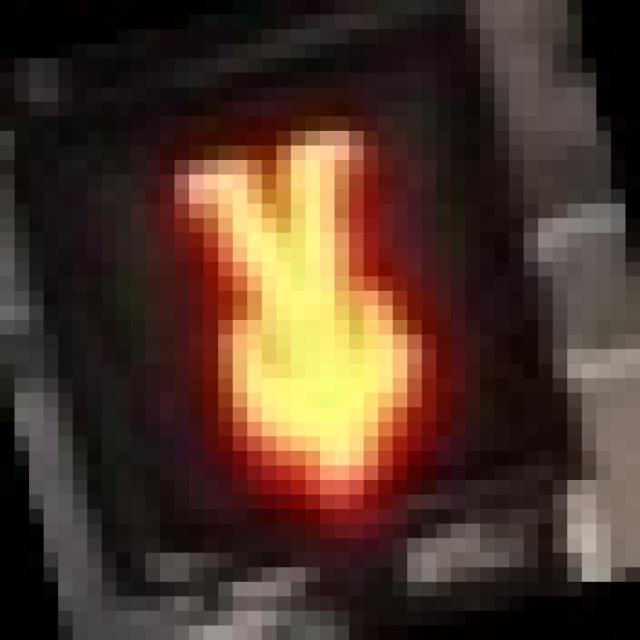red-crossing: (44, 44, 552, 552)
